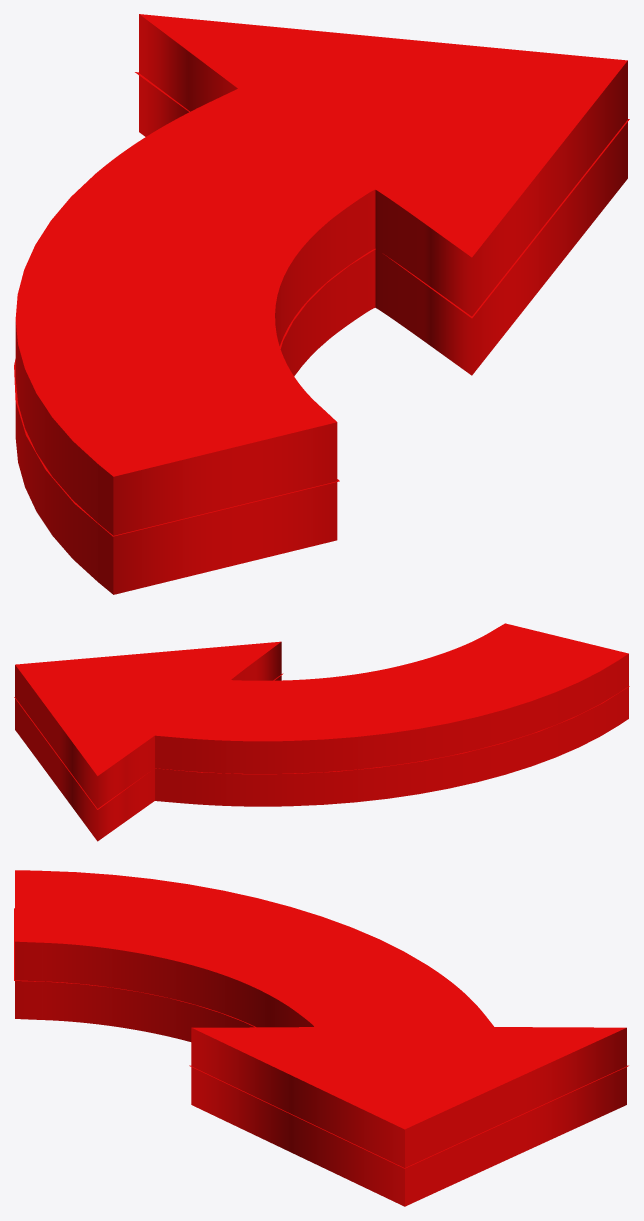
Rendered from ArrowO.glb.
3 renders of one model, top to bottom at view 1: azimuth 30°, elevation 25°; view 2: azimuth 150°, elevation 25°; view 3: azimuth 270°, elevation 25°, orthographic. The views are drawn at different scales.
Visible parts, largest first — view 1: path2807, path2985; view 2: path2807, path2985; view 3: path2807, path2985.
Part boxes in pixels (x1,y1,x2,y2): path2807: (15, 14, 627, 594); path2985: (14, 72, 629, 536); path2807: (15, 623, 628, 841); path2985: (14, 673, 629, 809); path2807: (15, 870, 626, 1206); path2985: (14, 908, 628, 1168).
Bounding box in the file's own units: 0.0722 × 0.01 × 0.0722.
